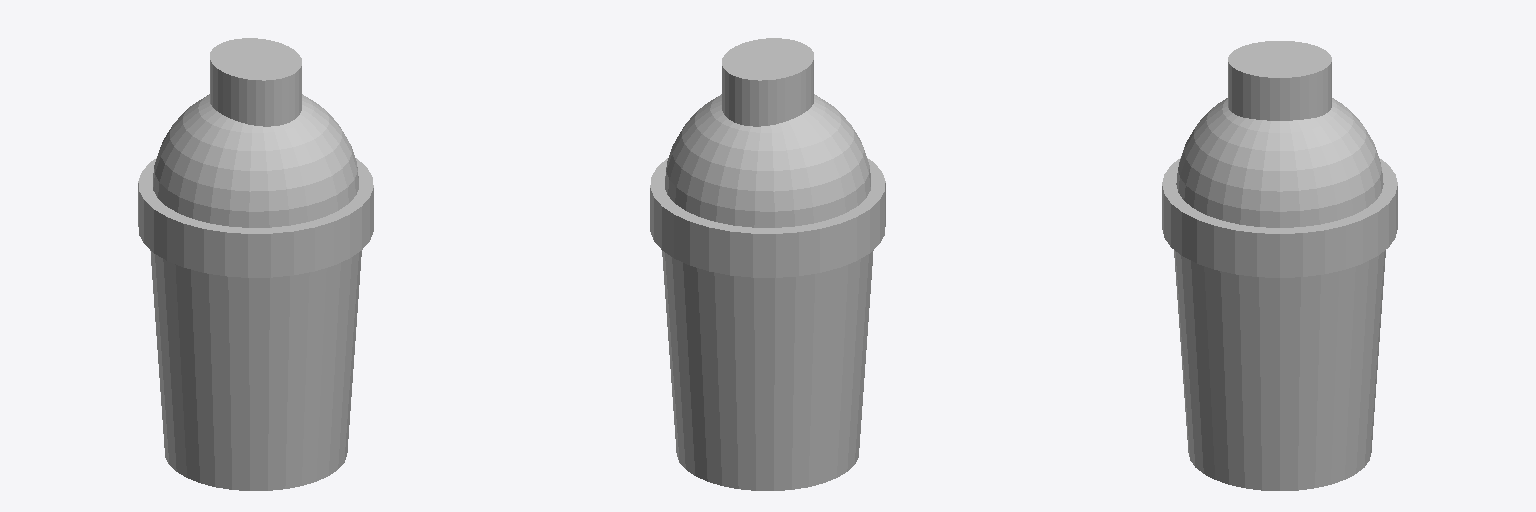
The model's file is piece.obj.
3 views of the same model, side by side, from view 1: azimuth 30°, elevation 25°; view 2: azimuth 150°, elevation 25°; view 3: azimuth 270°, elevation 25° (orthographic).
Visible parts, largest first — view 1: Cylinder, Sphere, Cylinder.001, Cylinder.002; view 2: Cylinder, Sphere, Cylinder.001, Cylinder.002; view 3: Cylinder, Sphere, Cylinder.001, Cylinder.002.
Part boxes in pixels (x1,y1,x2,y2): Cylinder: (150, 250, 361, 490); Sphere: (153, 94, 358, 227); Cylinder.001: (138, 158, 373, 277); Cylinder.002: (210, 38, 301, 126); Cylinder: (662, 250, 873, 490); Sphere: (665, 94, 870, 227); Cylinder.001: (650, 158, 885, 277); Cylinder.002: (722, 38, 813, 126); Cylinder: (1174, 250, 1385, 490); Sphere: (1176, 98, 1383, 227); Cylinder.001: (1162, 158, 1397, 277); Cylinder.002: (1228, 41, 1331, 120).
Size of the model in its own units: 2.58 by 4.74 by 2.58.